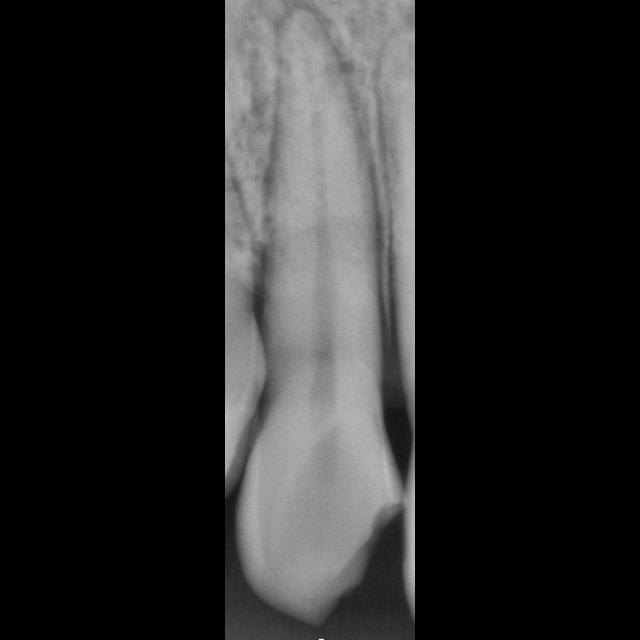tooth: (234, 7, 406, 627)
